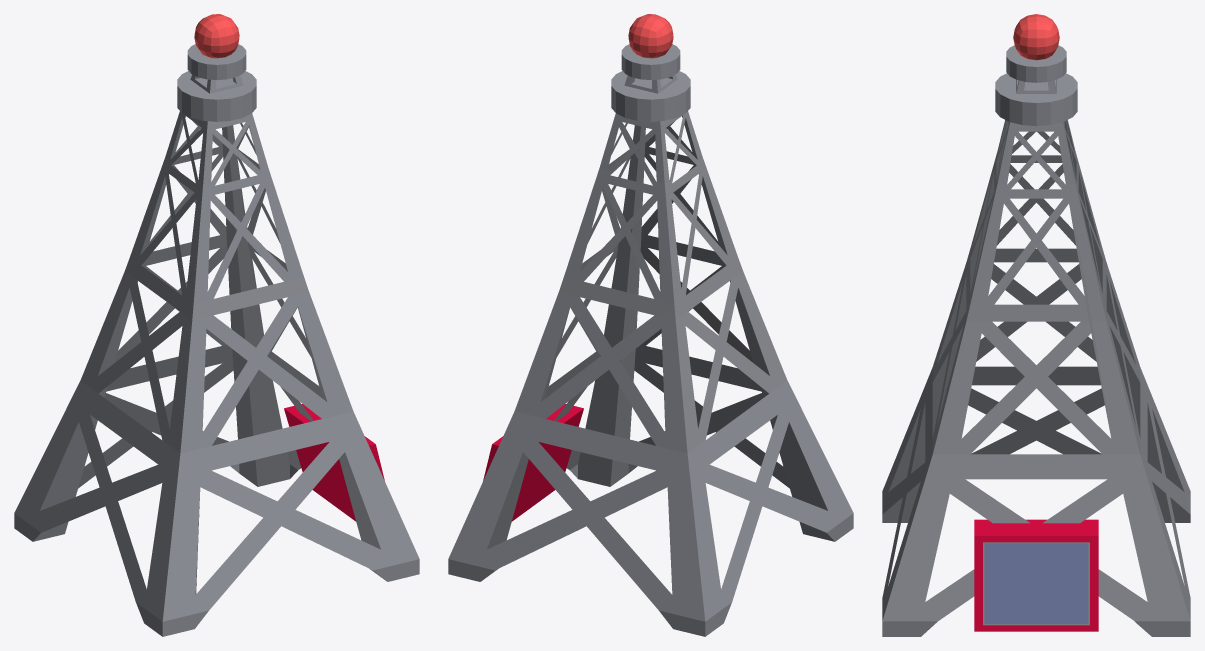
Rendered from outpost_MOD(red).fbx.
The picture shows the model from 3 angles, left to right: view 1: azimuth 30°, elevation 25°; view 2: azimuth 150°, elevation 25°; view 3: azimuth 270°, elevation 25°; orthographic projection. The views are drawn at different scales.
Visible parts, largest first — view 1: outpost; view 2: outpost; view 3: outpost.
Boxes of the visible parts, box(x1,y1,x2,y2) form: outpost: box(14, 14, 419, 636); outpost: box(448, 14, 853, 636); outpost: box(882, 14, 1190, 636).
Size of the model in its own units: 882 by 1630 by 819.
